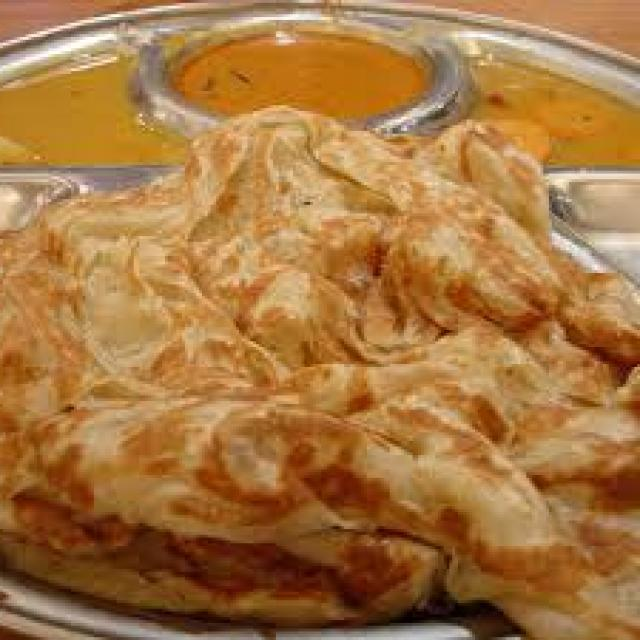Paratha: (0, 42, 626, 639)
